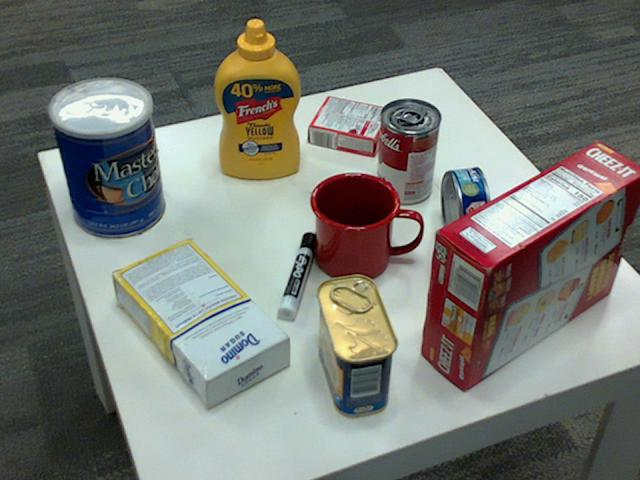cracker_box: (419, 140, 639, 389)
gelatin_box: (309, 95, 392, 154)
large_marker: (275, 233, 317, 324)
master_chef_can: (46, 78, 163, 238)
mug: (308, 169, 419, 279)
mustard_bottle: (213, 19, 299, 178)
potted_meat_can: (315, 275, 398, 416)
sugar_box: (109, 236, 287, 403)
tomato_soup_can: (375, 99, 440, 205)
tuna_fish_can: (440, 166, 489, 246)
